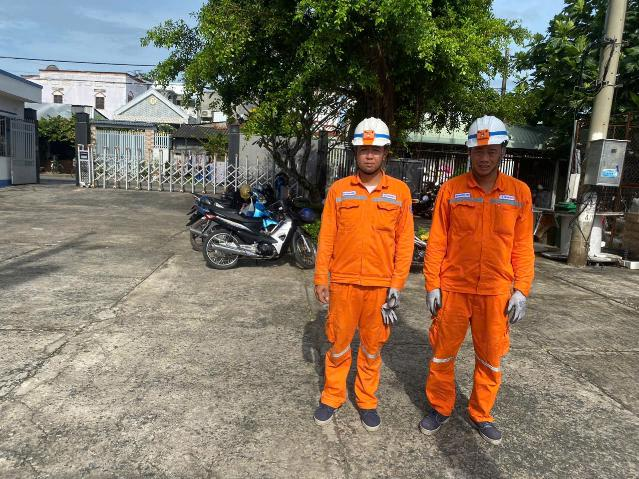gloves: (509, 287, 532, 332), (386, 279, 407, 327), (423, 283, 449, 317)
helmet: (456, 110, 520, 153), (341, 110, 404, 149)
shoes: (353, 385, 391, 434), (311, 391, 349, 440), (469, 406, 508, 452), (416, 403, 461, 437)
